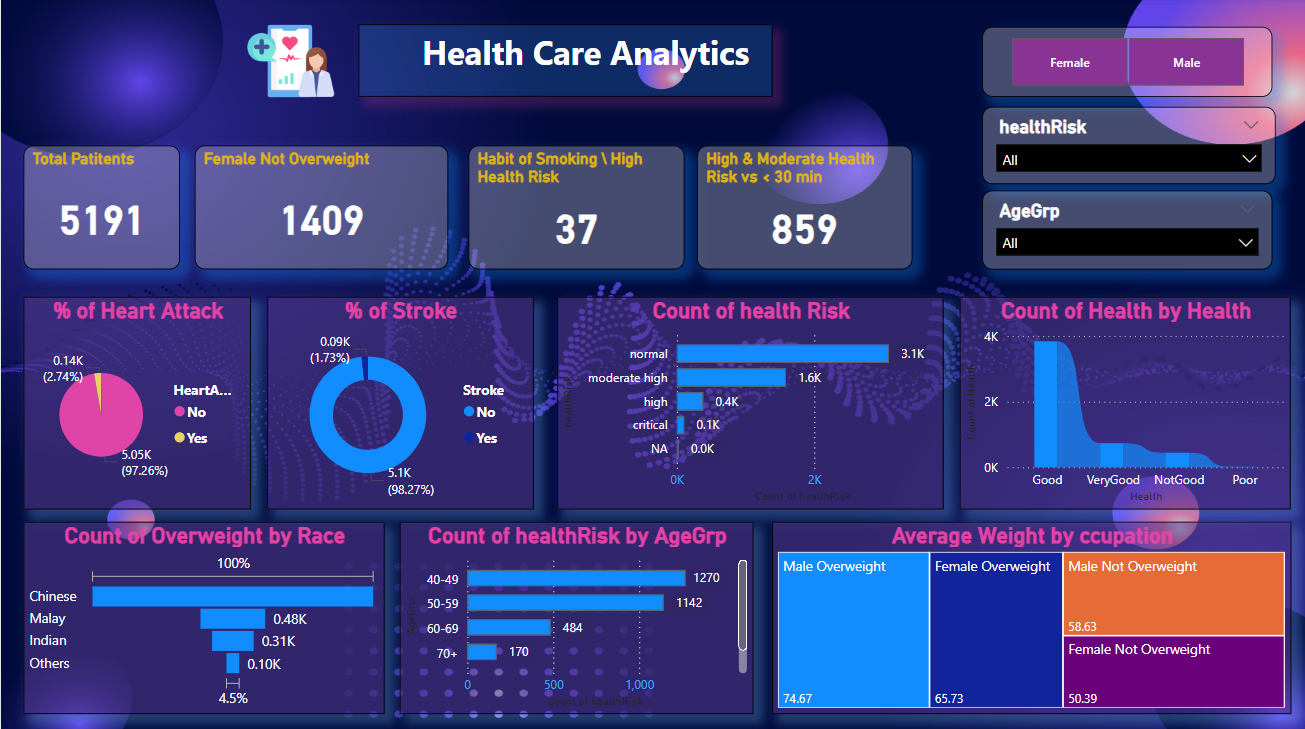

Layout of this report page (visuals, bound fields, positions):
{"tool":"powerbi","page":{"name":"Page 1","canvas":[1280,720],"ordinal":0},"visuals":[{"type":"card","title":"Total Patitents","fields":{"Values":["CountNonNull(Table1.scnZone)"]},"box":[22.1,144.8,153.4,121.5],"z":0},{"type":"pieChart","title":"% of Heart Attack","fields":{"Category":["Table1.HeartAttack"],"Y":["CountNonNull(Table1.HeartAttack)"]},"box":[22.1,293.3,223.3,208.6],"z":1000},{"type":"donutChart","title":"% of Stroke","fields":{"Category":["Table1.Stroke"],"Y":["CountNonNull(Table1.Stroke)"]},"box":[261.4,293.3,261.4,208.6],"z":2000},{"type":"card","title":"Female Not Overweight","fields":{"Values":["CountNonNull(Table1.Overweight)"]},"box":[190.2,144.8,249.1,121.5],"z":3000},{"type":"barChart","title":"Count of health Risk ","fields":{"Category":["Table1.healthRisk"],"Y":["CountNonNull(Table1.healthRisk)"]},"box":[546,293.3,379.1,208.6],"z":4000},{"type":"treemap","title":"Average Weight by ccupation","fields":{"Group":["Table1.Overweight"],"Values":["Avg(Table1.Weight)"]},"box":[757.1,514.1,509.2,189],"z":5000},{"type":"funnel","fields":{"Category":["Table1.Race"],"Y":["CountNonNull(Table1.Overweight)"]},"box":[22.1,514.1,354.6,189],"z":6000},{"type":"barChart","fields":{"Category":["Table1.AgeGrp"],"Y":["CountNonNull(Table1.healthRisk)"]},"box":[391.4,514.1,347.2,189],"z":7000},{"type":"card","title":"Habit of Smoking \\ High Health Risk","fields":{"Values":["CountNonNull(Table1.Smoking)"]},"box":[458.9,144.8,212.3,121.5],"z":8000},{"type":"card","title":"High & Moderate Health Risk vs < 30 min","fields":{"Values":["CountNonNull(Table1.Exercise)"]},"box":[683.4,144.8,211,121.5],"z":9000},{"type":"slicer","fields":{"Values":["Table1.Gender"]},"box":[963.2,28.2,284.7,68.7],"z":10000},{"type":"slicer","fields":{"Values":["Table1.healthRisk"]},"box":[963.2,106.7,288.3,76.1],"z":11000},{"type":"slicer","fields":{"Values":["Table1.AgeGrp"]},"box":[963.2,189,284.7,77.3],"z":12000},{"type":"ribbonChart","fields":{"Category":["Table1.Health"],"Y":["CountNonNull(Table1.Health)"]},"box":[941.1,293.3,325.2,208.6],"z":13000},{"type":"image","box":[236.8,13.5,95.7,96.9],"z":14000},{"type":"textbox","box":[350.9,25.8,406.1,71.2],"z":15000}]}

Visuals, with their boxes in screenshot pixels (x1, y1, x2, y2), scaled from the page's 1280x720 canvas onto the 1305x729 screenshot:
"Total Patitents" card: <bbox>23, 147, 179, 270</bbox>
"% of Heart Attack" pieChart: <bbox>23, 297, 250, 508</bbox>
"% of Stroke" donutChart: <bbox>267, 297, 533, 508</bbox>
"Female Not Overweight" card: <bbox>194, 147, 448, 270</bbox>
"Count of health Risk " barChart: <bbox>557, 297, 943, 508</bbox>
"Average Weight by ccupation" treemap: <bbox>772, 521, 1291, 712</bbox>
funnel - Table1.Race x CountNonNull(Table1.Overweight): <bbox>23, 521, 384, 712</bbox>
barChart - Table1.AgeGrp x CountNonNull(Table1.healthRisk): <bbox>399, 521, 753, 712</bbox>
"Habit of Smoking \ High Health Risk" card: <bbox>468, 147, 684, 270</bbox>
"High & Moderate Health Risk vs < 30 min" card: <bbox>697, 147, 912, 270</bbox>
slicer - Table1.Gender: <bbox>982, 29, 1272, 98</bbox>
slicer - Table1.healthRisk: <bbox>982, 108, 1276, 185</bbox>
slicer - Table1.AgeGrp: <bbox>982, 191, 1272, 270</bbox>
ribbonChart - Table1.Health x CountNonNull(Table1.Health): <bbox>959, 297, 1291, 508</bbox>
image: <bbox>241, 14, 339, 112</bbox>
textbox: <bbox>358, 26, 772, 98</bbox>
